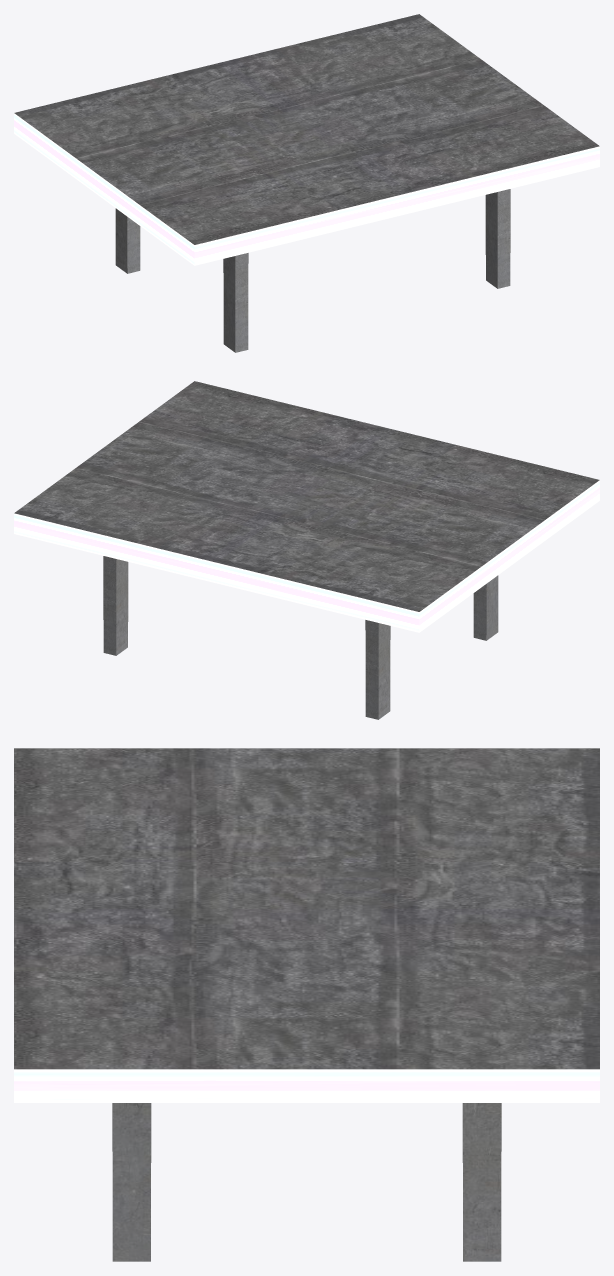
The model's file is SM_SixTwelveCanopy.glb.
3 renders of one model, top to bottom at view 1: azimuth 30°, elevation 25°; view 2: azimuth 150°, elevation 25°; view 3: azimuth 270°, elevation 25°, orthographic. The views are drawn at different scales.
Parts seen in each view (by area): view 1: SM_SixTwelveCanopy; view 2: SM_SixTwelveCanopy; view 3: SM_SixTwelveCanopy.
Part boxes in pixels (left/top/right/bottom): SM_SixTwelveCanopy: left=14, top=14, right=599, bottom=352; SM_SixTwelveCanopy: left=14, top=381, right=599, bottom=719; SM_SixTwelveCanopy: left=14, top=748, right=599, bottom=1261.
Size of the model in its own units: 21.67 by 7.53 by 16.73.
Materials: 4 (4 with a texture image).
